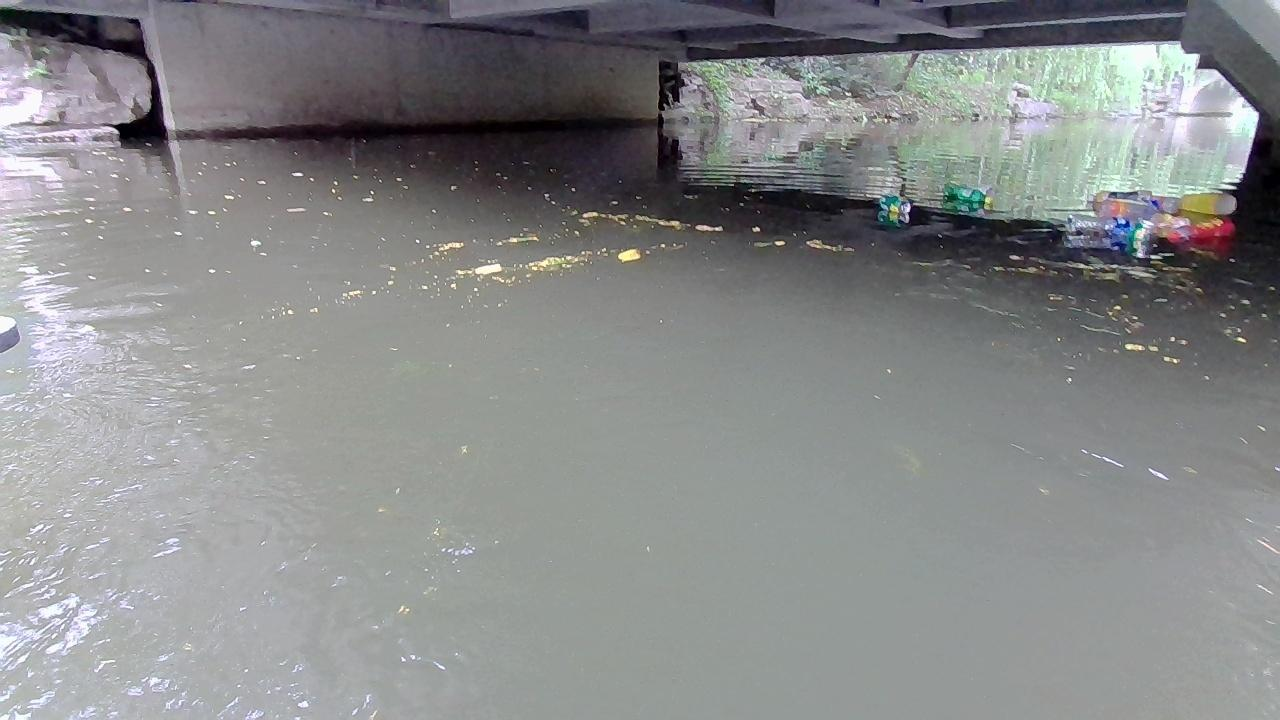bottle: (1092, 189, 1180, 222), (1066, 210, 1139, 236), (941, 177, 994, 211), (1157, 195, 1235, 218), (1176, 218, 1235, 245), (1107, 224, 1150, 253), (1144, 208, 1186, 237), (877, 191, 907, 211)
